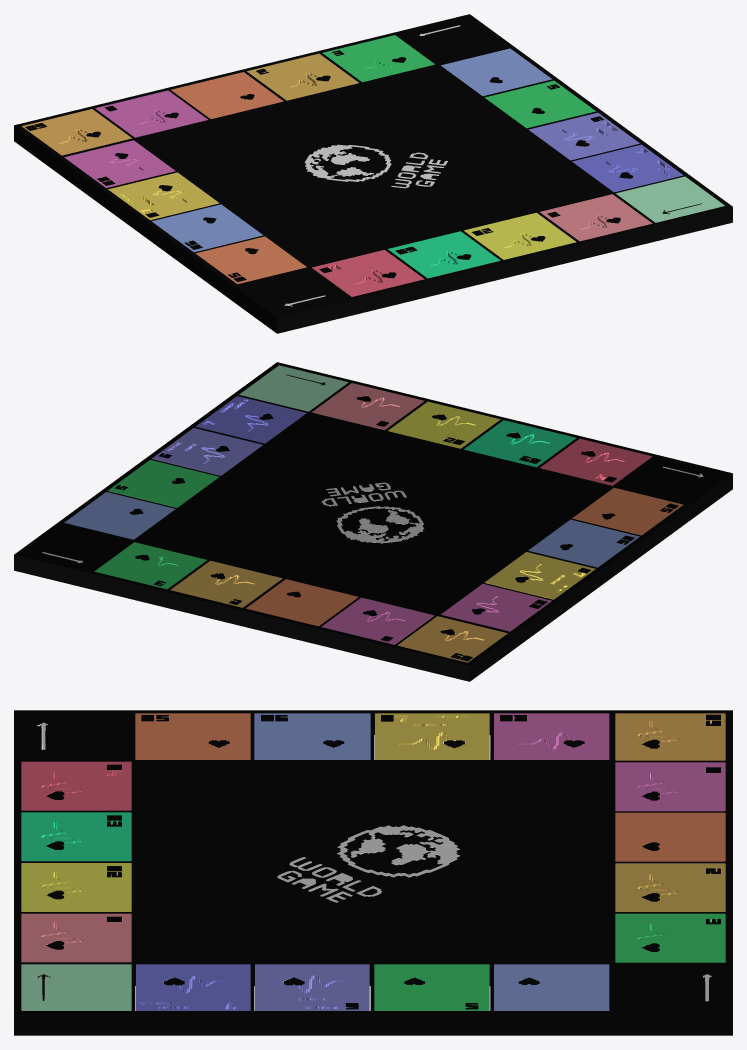
File: board.glb
The picture shows the model from 3 angles, top to bottom: view 1: azimuth 30°, elevation 25°; view 2: azimuth 150°, elevation 25°; view 3: azimuth 270°, elevation 25°; orthographic projection. The views are drawn at different scales.
Parts seen in each view (by area): view 1: Node1, Node43, Node46, Node56, Node49, Node47, Node48, Node60, Node54, Node55, Node45, Node57 (+9 smaller); view 2: Node1, Node43, Node46, Node48, Node49, Node47, Node56, Node60, Node54, Node55, Node45, Node57 (+9 smaller); view 3: Node1, Node43, Node47, Node49, Node54, Node55, Node46, Node58, Node48, Node56, Node57, Node45 (+9 smaller).
Boxes of the visible parts, box(x1,y1,x2,y2) form: Node1: box(14, 14, 732, 333); Node43: box(171, 72, 283, 118); Node46: box(441, 48, 551, 95); Node56: box(572, 144, 683, 192); Node49: box(95, 90, 207, 137); Node47: box(322, 35, 434, 82); Node48: box(484, 80, 595, 128); Node60: box(528, 112, 639, 160); Node54: box(540, 194, 652, 241); Node55: box(312, 250, 424, 296); Node45: box(152, 204, 263, 252); Node57: box(247, 53, 358, 100); Node1: box(14, 362, 732, 681); Node43: box(246, 579, 358, 626); Node46: box(64, 492, 175, 539); Node48: box(108, 460, 219, 507); Node49: box(321, 597, 434, 644); Node47: box(94, 542, 206, 589); Node56: box(196, 396, 306, 443); Node60: box(152, 428, 262, 475); Node54: box(312, 383, 424, 430); Node55: box(540, 438, 652, 485); Node45: box(528, 519, 639, 567); Node57: box(170, 560, 282, 607); Node1: box(14, 710, 732, 1035); Node43: box(615, 812, 725, 861); Node47: box(615, 913, 725, 962); Node49: box(615, 762, 725, 811); Node54: box(21, 913, 131, 962); Node55: box(21, 761, 131, 810); Node46: box(494, 964, 609, 1010); Node58: box(21, 812, 131, 861); Node48: box(374, 964, 489, 1010); Node56: box(136, 964, 250, 1010); Node57: box(615, 863, 725, 911); Node45: box(254, 713, 370, 759).
Size of the model in its own units: 3 by 0.1 by 3.
